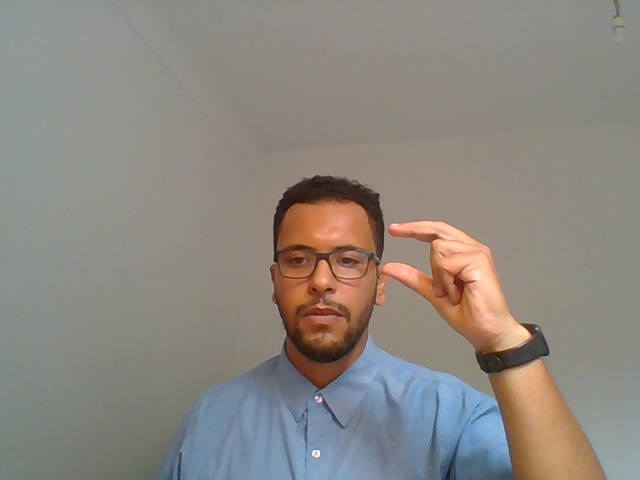no: (381, 199, 572, 390)
